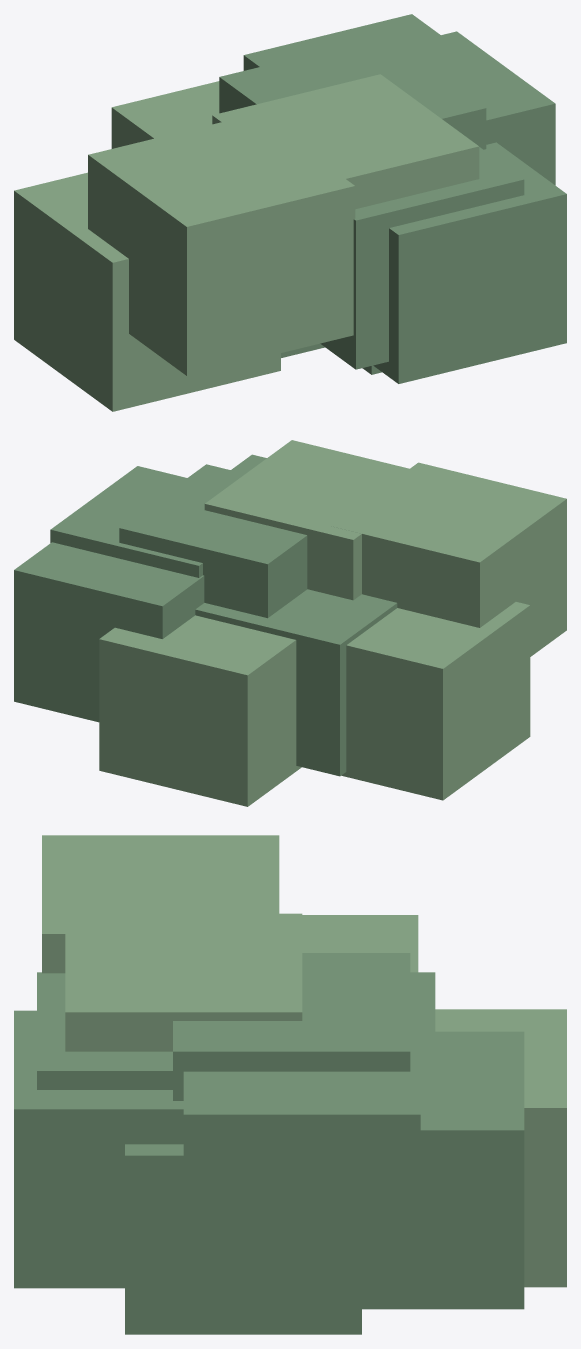
File: moita_densa.glb
3 views of the same model, one above another, from view 1: azimuth 30°, elevation 25°; view 2: azimuth 150°, elevation 25°; view 3: azimuth 270°, elevation 25° (orthographic). The views are drawn at different scales.
Visible parts, largest first — view 1: part_009, part_002, part_000, part_003, part_010, part_007, part_008, part_006, part_005; view 2: part_006, part_000, part_009, part_005, part_010, part_003, part_004, part_008; view 3: part_008, part_005, part_002, part_003, part_009, part_010, part_001, part_006, part_007, part_000, part_004.
Part boxes in pixels (x1=…): part_009: x1=88, y1=113, x2=355, y2=375; part_002: x1=373, y1=142, x2=566, y2=383; part_000: x1=14, y1=172, x2=280, y2=411; part_003: x1=212, y1=74, x2=479, y2=209; part_010: x1=219, y1=36, x2=486, y2=149; part_007: x1=320, y1=147, x2=524, y2=369; part_008: x1=400, y1=31, x2=555, y2=185; part_006: x1=111, y1=81, x2=219, y2=148; part_005: x1=243, y1=14, x2=440, y2=70; part_006: x1=99, y1=615, x2=301, y2=806; part_000: x1=341, y1=602, x2=530, y2=800; part_009: x1=331, y1=462, x2=566, y2=656; part_005: x1=14, y1=542, x2=204, y2=722; part_010: x1=119, y1=464, x2=307, y2=618; part_003: x1=204, y1=440, x2=409, y2=600; part_004: x1=195, y1=589, x2=397, y2=776; part_008: x1=50, y1=466, x2=202, y2=577; part_008: x1=183, y1=1016, x2=420, y2=1293; part_005: x1=287, y1=1031, x2=524, y2=1309; part_002: x1=14, y1=1010, x2=183, y2=1288; part_003: x1=65, y1=913, x2=302, y2=1051; part_009: x1=42, y1=835, x2=279, y2=973; part_010: x1=173, y1=953, x2=410, y2=1100; part_001: x1=125, y1=1144, x2=361, y2=1334; part_006: x1=435, y1=1009, x2=566, y2=1287; part_007: x1=37, y1=972, x2=172, y2=1089; part_000: x1=302, y1=915, x2=418, y2=972; part_004: x1=410, y1=972, x2=435, y2=1031.
Bounding box in the file's own units: 1.71 × 0.8362 × 1.54.
